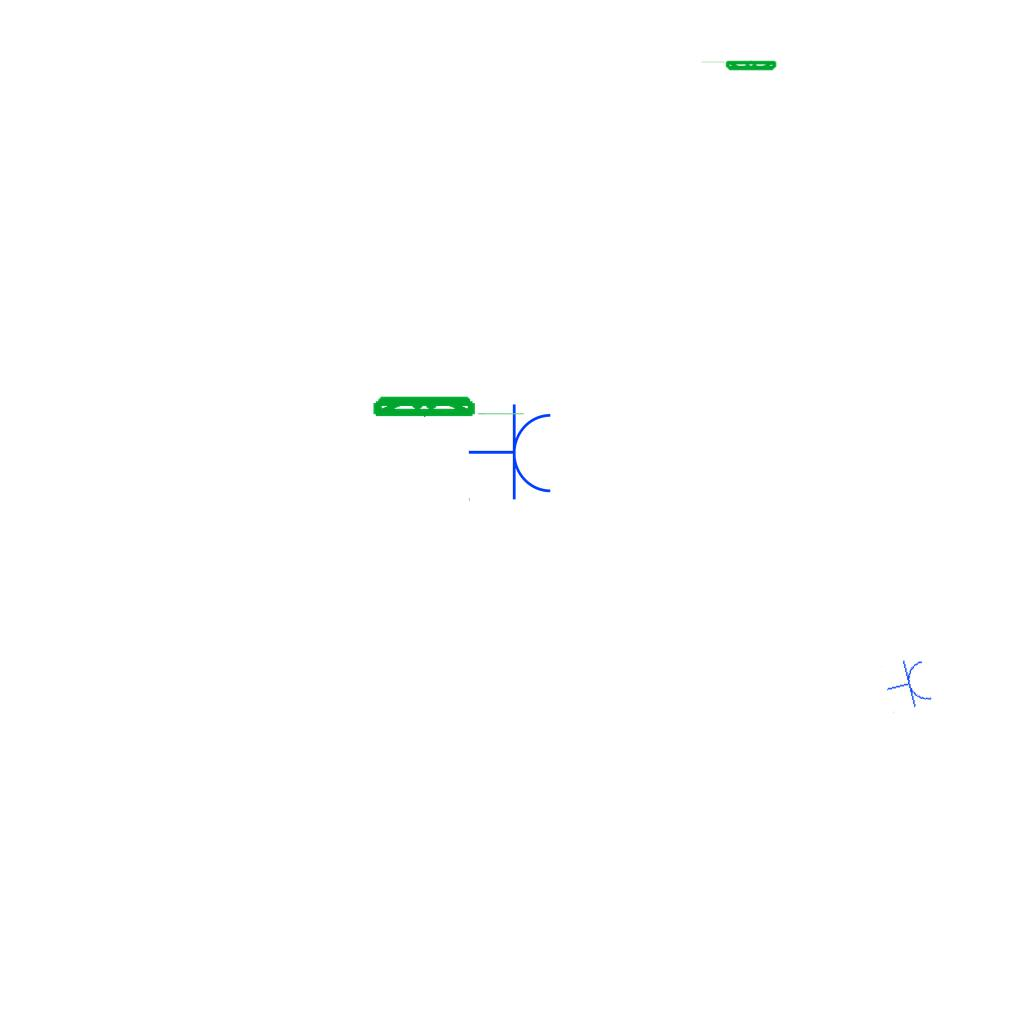Schukosteckdose_einfach: (468, 403, 555, 503), (881, 655, 935, 714)
Sicherheitsleuchte_Wandeinbau: (370, 393, 529, 418), (699, 60, 778, 72)
